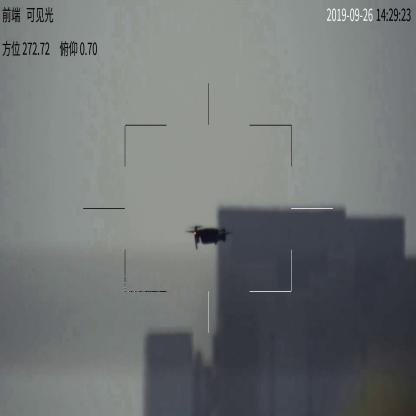uav: (184, 223, 232, 250)
